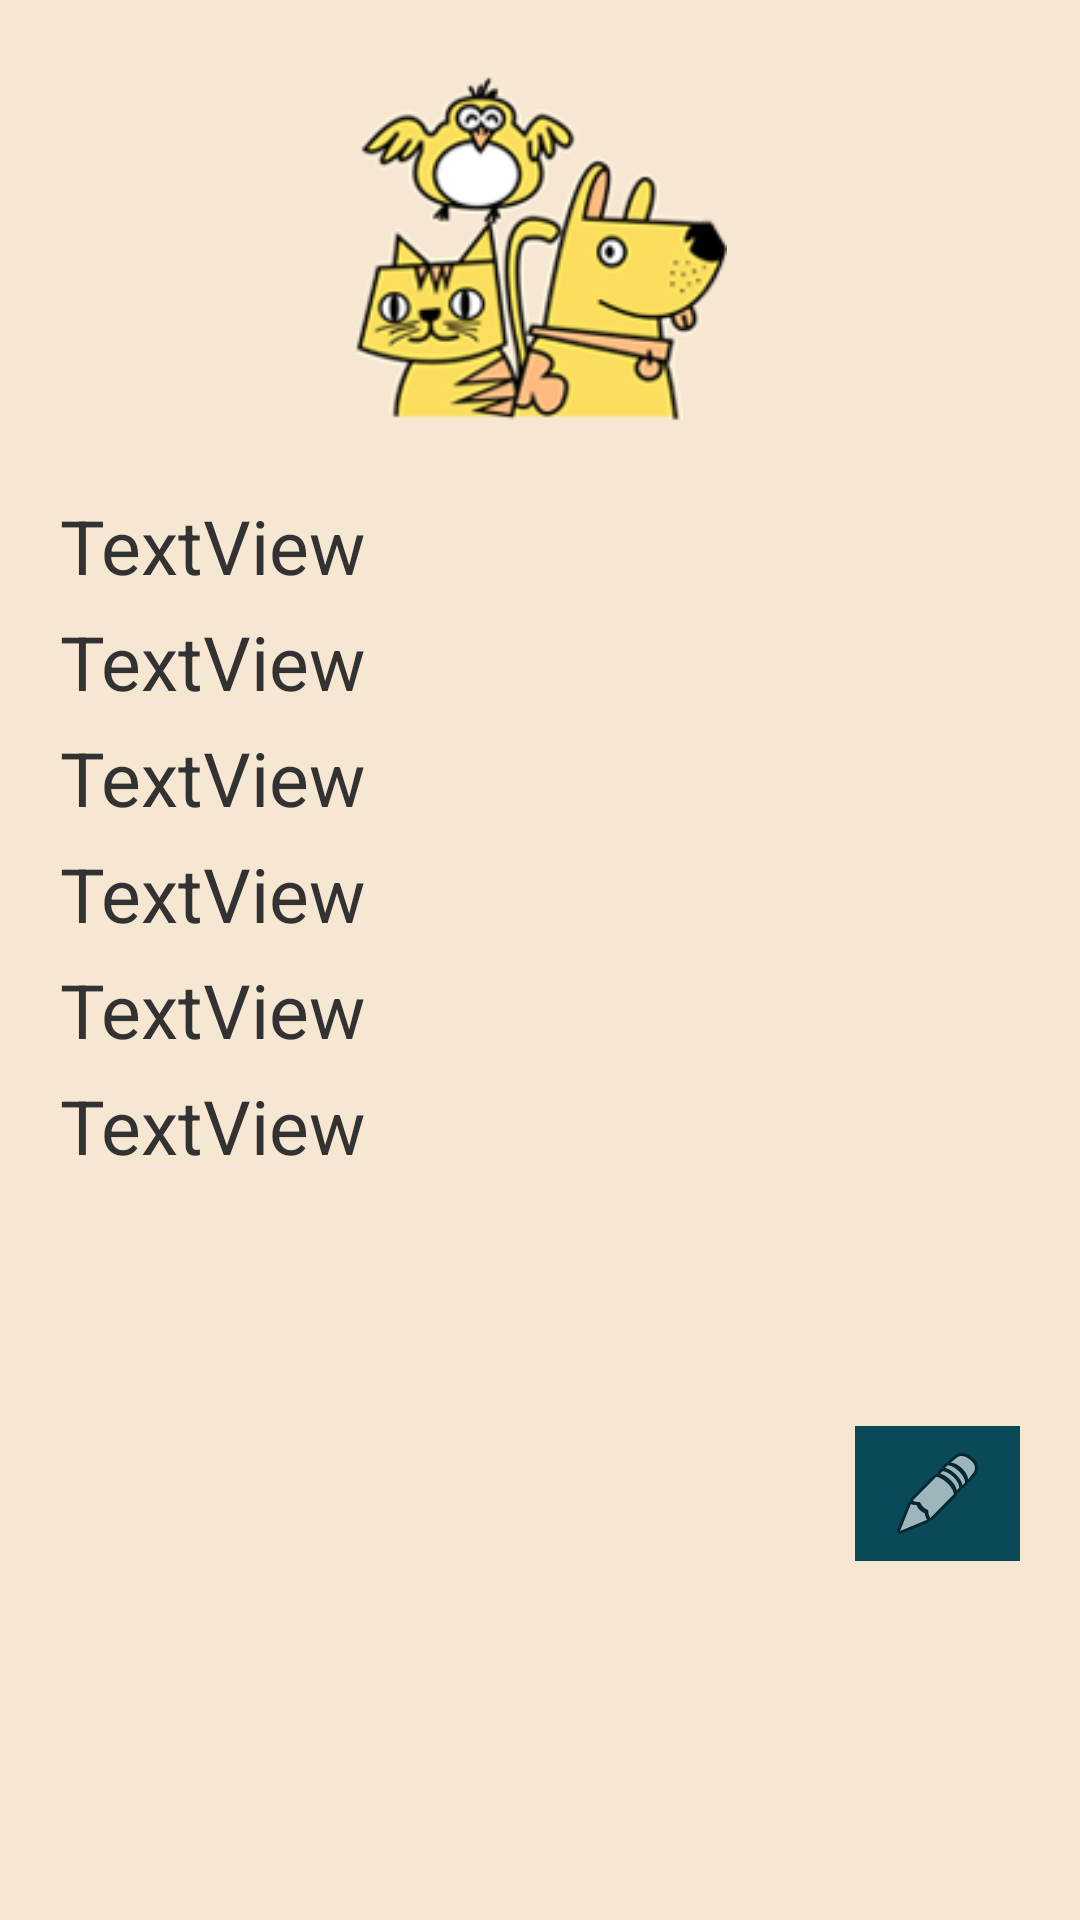

Icon bounding boxes for this 1080 x 1920 phone screenshot, format (x1,y1,x2,y2):
edit: (855,1426,1020,1561)
